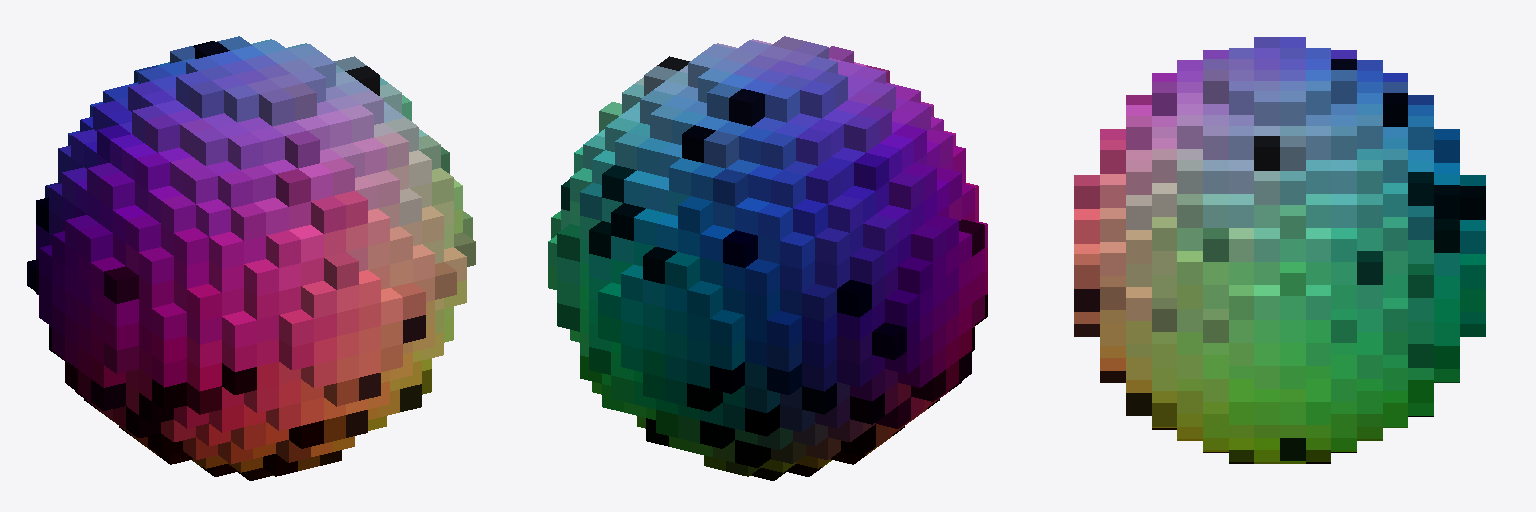
File: iter_200.obj
3 views of the same model, side by side, from view 1: azimuth 30°, elevation 25°; view 2: azimuth 150°, elevation 25°; view 3: azimuth 270°, elevation 25° (orthographic).
Visible parts, largest first — view 1: iter_200; view 2: iter_200; view 3: iter_200.
Boxes of the visible parts, x1=… form: iter_200: x1=27, y1=36, x2=475, y2=480; iter_200: x1=548, y1=36, x2=987, y2=480; iter_200: x1=1074, y1=37, x2=1485, y2=463.
Size of the model in its own units: 1.6 by 1.6 by 1.6.